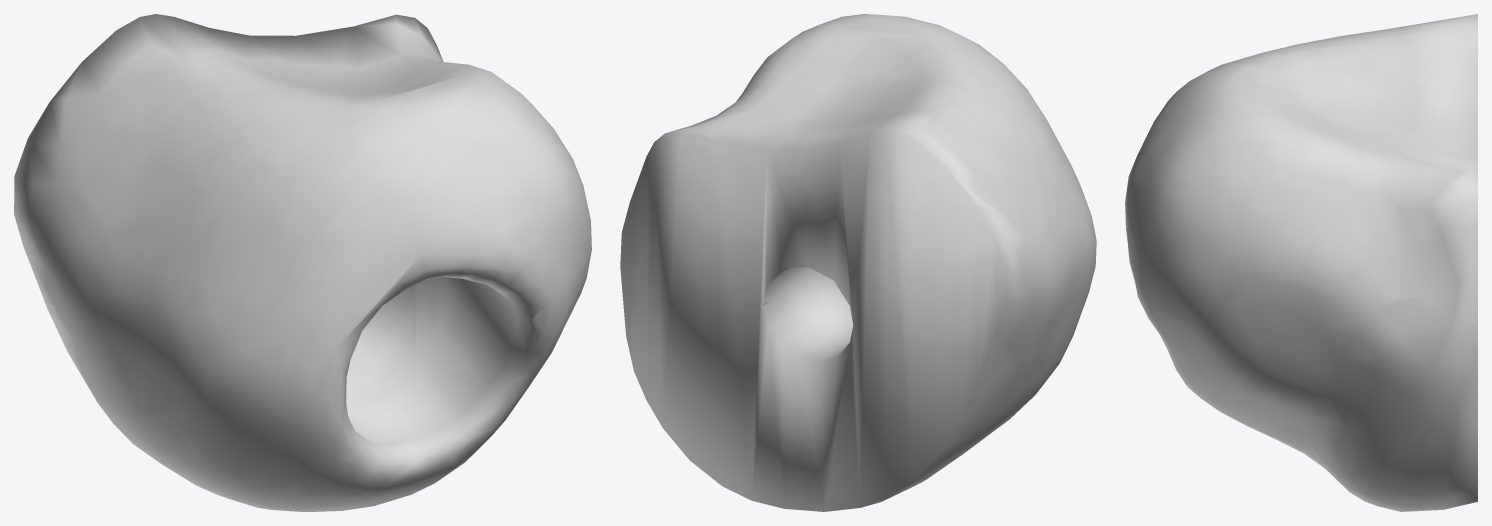
File: Hold_2.glb
The picture shows the model from 3 angles, left to right: view 1: azimuth 30°, elevation 25°; view 2: azimuth 150°, elevation 25°; view 3: azimuth 270°, elevation 25°; orthographic projection. The views are drawn at different scales.
Parts seen in each view (by area): view 1: bh_5x5_08; view 2: bh_5x5_08; view 3: bh_5x5_08.
Part boxes in pixels (x1,y1,x2,y2): bh_5x5_08: (14, 14, 591, 511); bh_5x5_08: (620, 14, 1096, 511); bh_5x5_08: (1125, 14, 1477, 511).
Size of the model in its own units: 0.184 by 0.1864 by 0.1434.
1 material, 1 textured.
